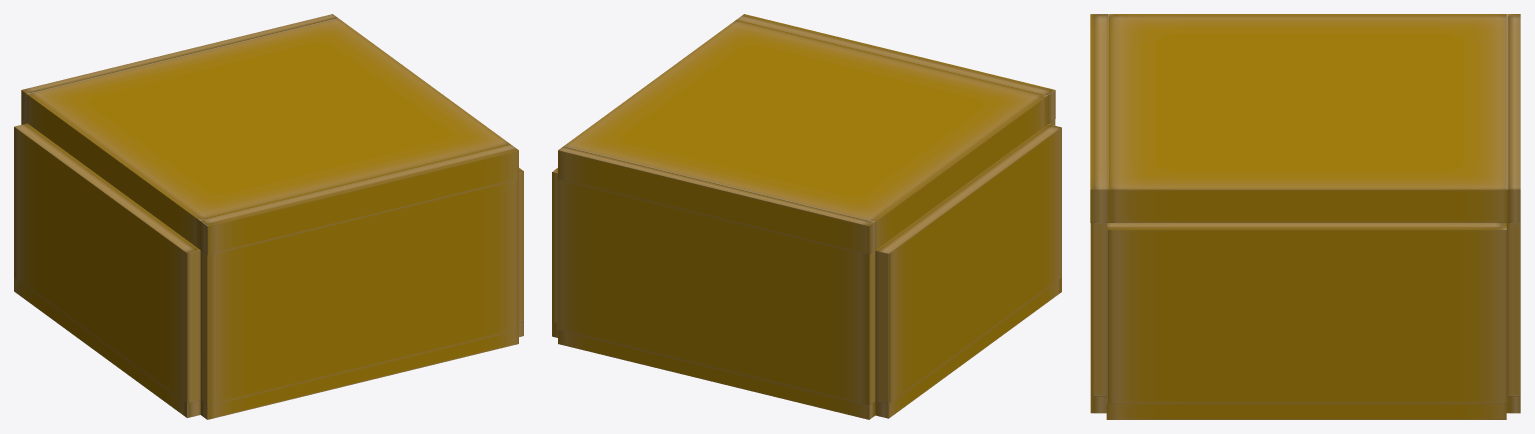
Rendered from Room_One.fbx.
3 renders of one model, left to right at view 1: azimuth 30°, elevation 25°; view 2: azimuth 150°, elevation 25°; view 3: azimuth 270°, elevation 25°, orthographic. The views are drawn at different scales.
Parts seen in each view (by area): view 1: Room; view 2: Room; view 3: Room.
Part boxes in pixels (x1,y1,x2,y2): Room: (14, 14, 523, 419); Room: (552, 14, 1061, 419); Room: (1090, 14, 1520, 419).
Size of the model in its own units: 1350 by 742 by 1294.
Materials: 1 (1 with a texture image).
